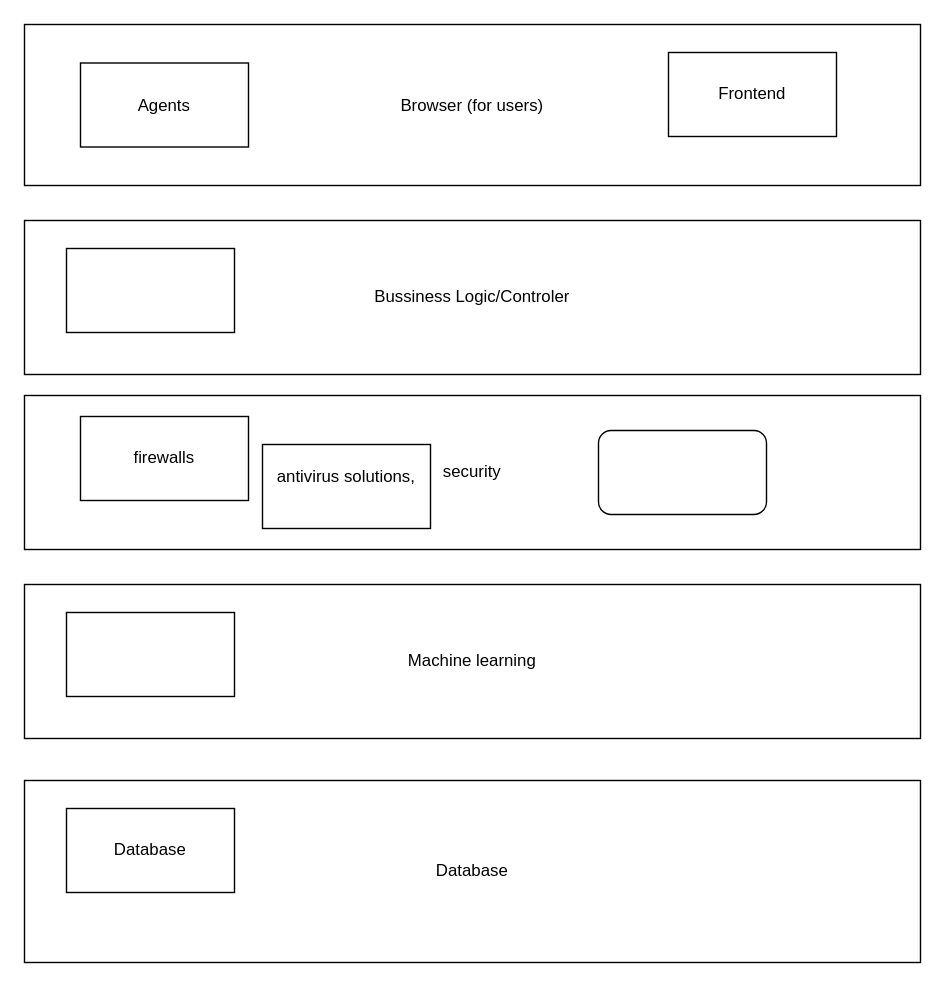
Image size: 945x987. Some labels were removed from this diagram. The centre of each missing label's shape, as x and y in pixels:
encryption: point 681,471
Machine learning algorithms: point 149,653
Managment Console: point 149,289
